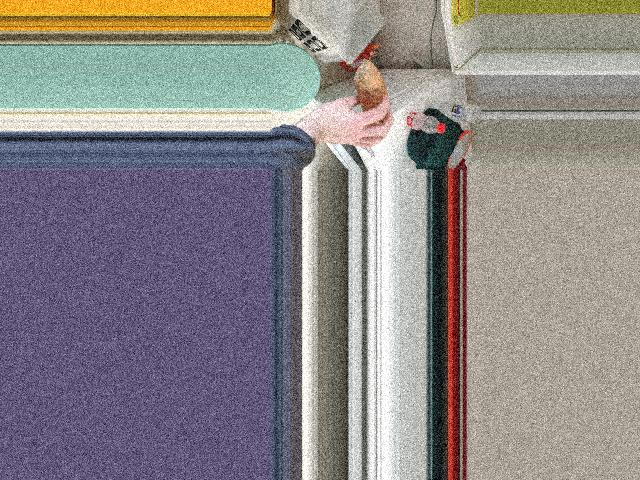sweet_potato: (355, 62, 386, 131)
